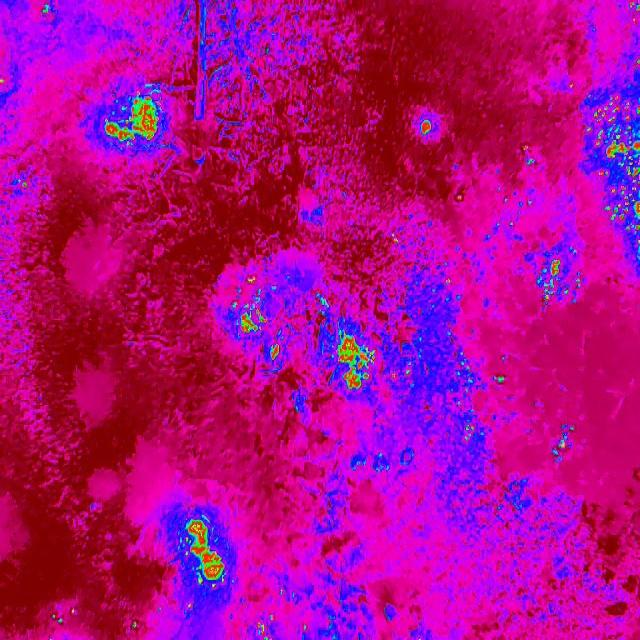fire: (463, 374, 575, 464), (590, 92, 640, 236), (182, 513, 226, 586), (99, 96, 161, 146), (528, 256, 576, 308), (337, 330, 372, 396), (232, 297, 268, 334), (516, 138, 540, 170), (413, 114, 434, 136), (266, 344, 286, 364), (243, 272, 258, 288), (314, 292, 328, 308)
